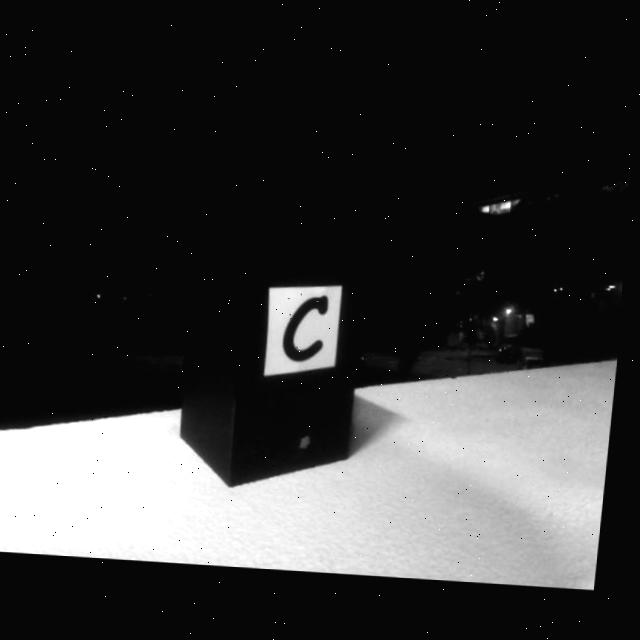C: (287, 293, 332, 360)
